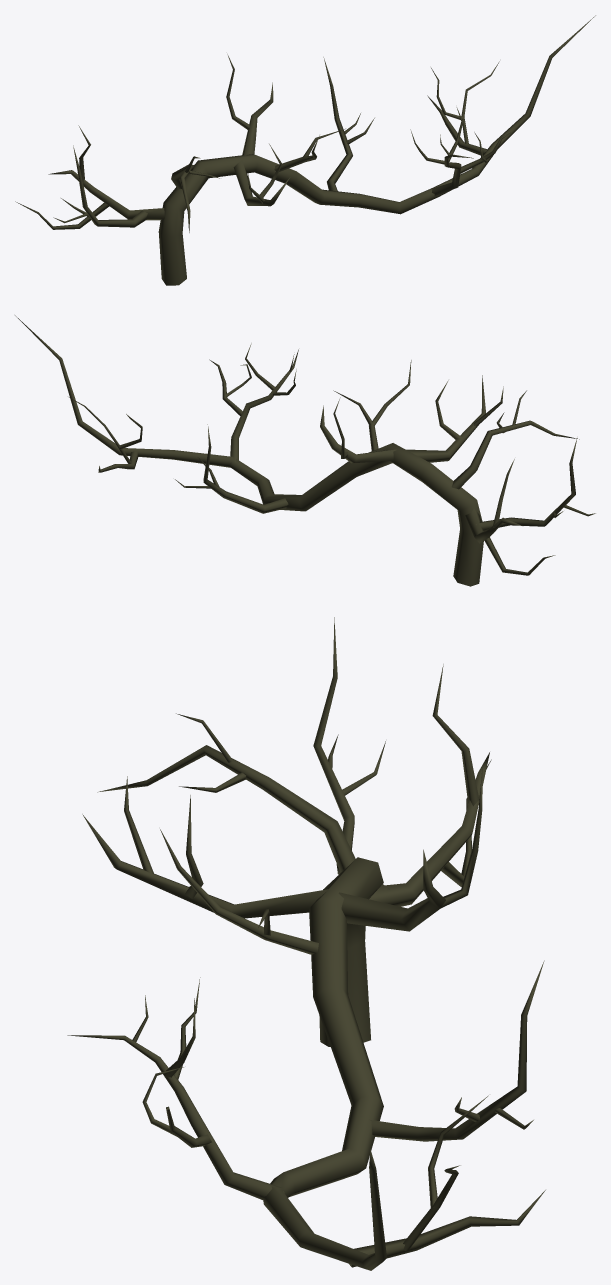
The model's file is SM_DesertTwigRoots02.fbx.
3 renders of one model, top to bottom at view 1: azimuth 30°, elevation 25°; view 2: azimuth 150°, elevation 25°; view 3: azimuth 270°, elevation 25°, orthographic. The views are drawn at different scales.
Visible parts, largest first — view 1: SM_DesertTwigRoots02; view 2: SM_DesertTwigRoots02; view 3: SM_DesertTwigRoots02.
Part boxes in pixels (left/top/right/bottom): SM_DesertTwigRoots02: left=15, top=15, right=595, bottom=285; SM_DesertTwigRoots02: left=15, top=315, right=595, bottom=586; SM_DesertTwigRoots02: left=67, top=617, right=545, bottom=1270.
Size of the model in its own units: 370 by 117 by 140.
